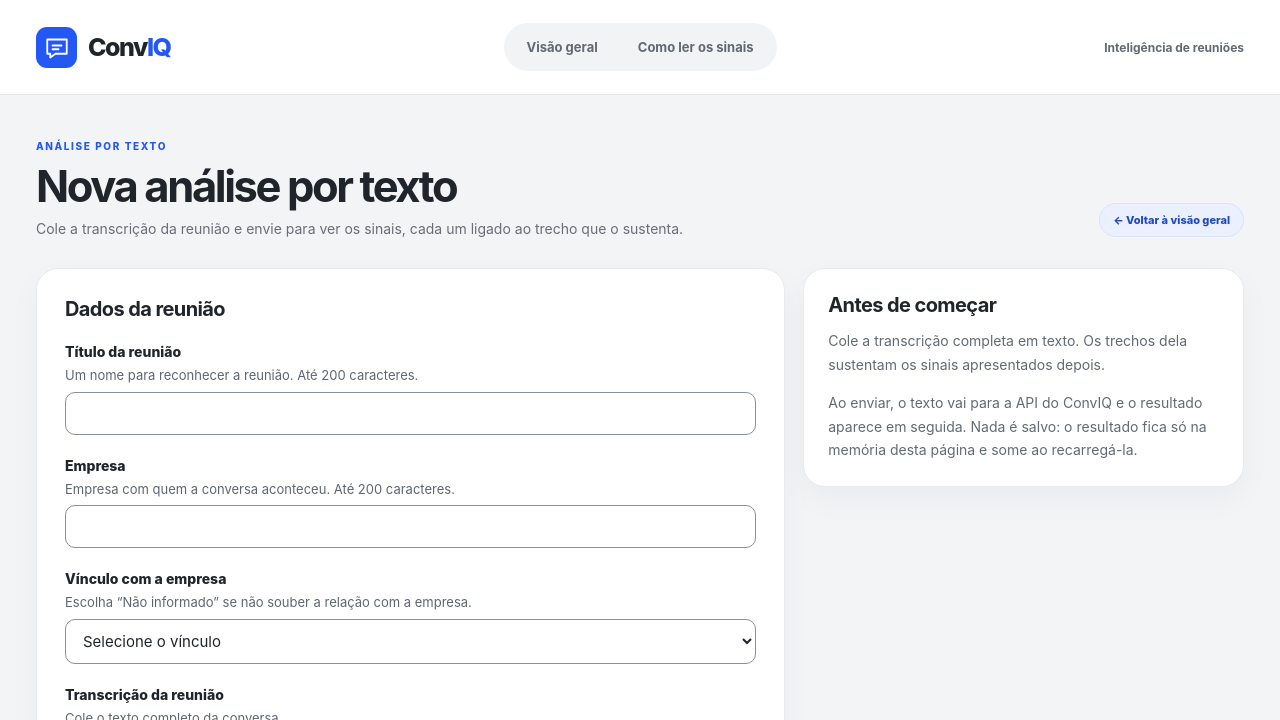
Test case: estados do envio › depois da falha os campos voltam a ser editáveis e sem aria-disabled
This screenshot has width=1280, height=720.
Type "  Renovação Acme  " into the field labelled "Título da reunião" at point(411, 413), box [65,392,756,435]
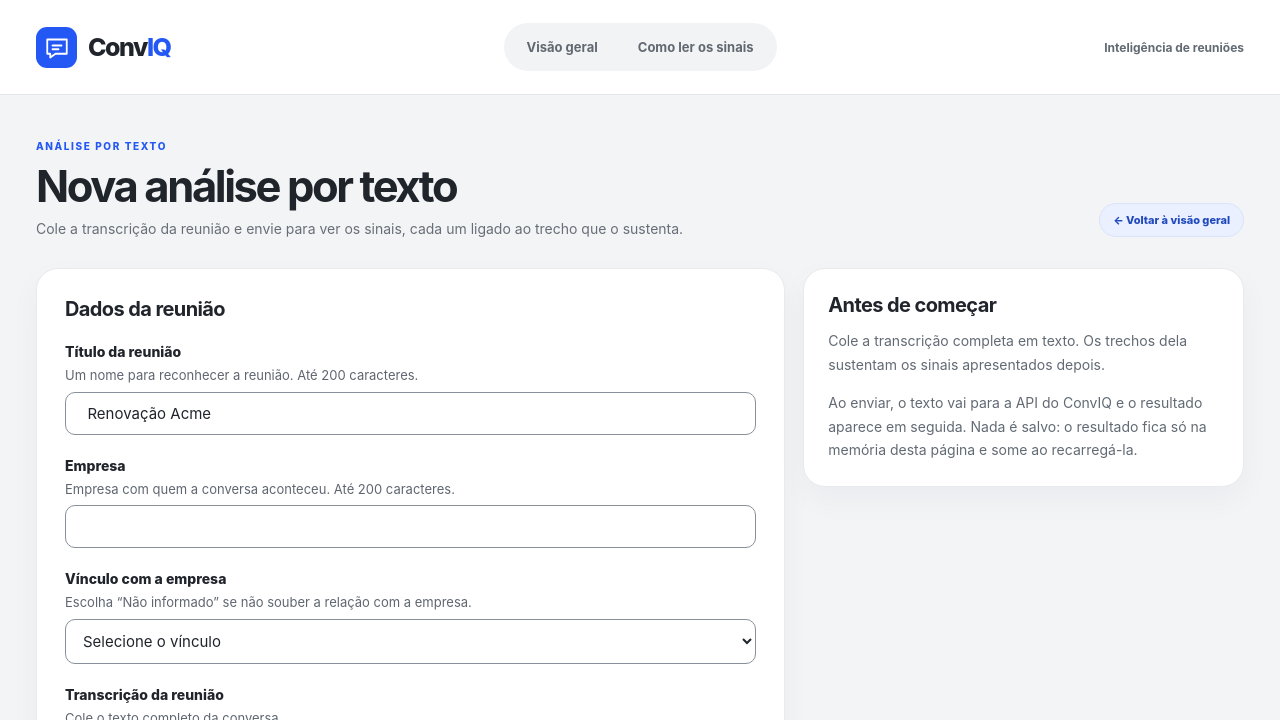
Type "Acme" into the field labelled "Empresa" at point(411, 527), box [65,505,756,548]
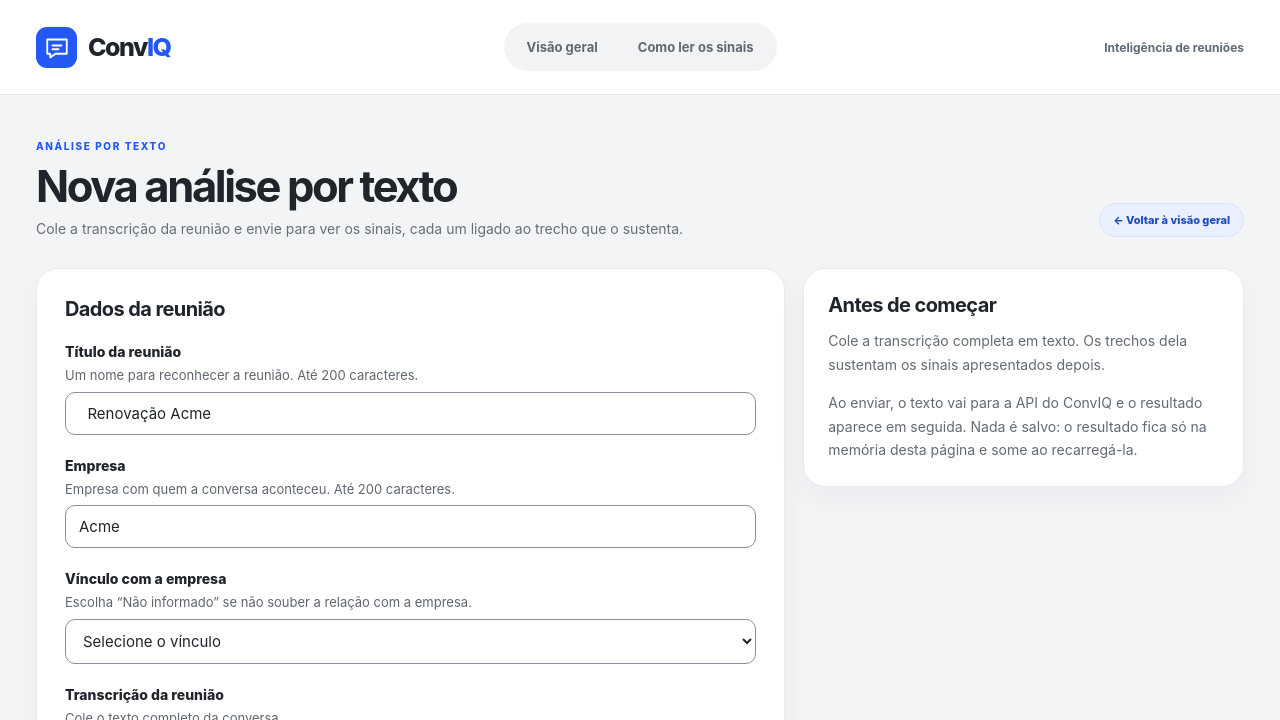
Select "Cliente" in the dropdown labelled "Vínculo com a empresa" at point(411, 641), box [65,619,756,664]
(page scrolled)
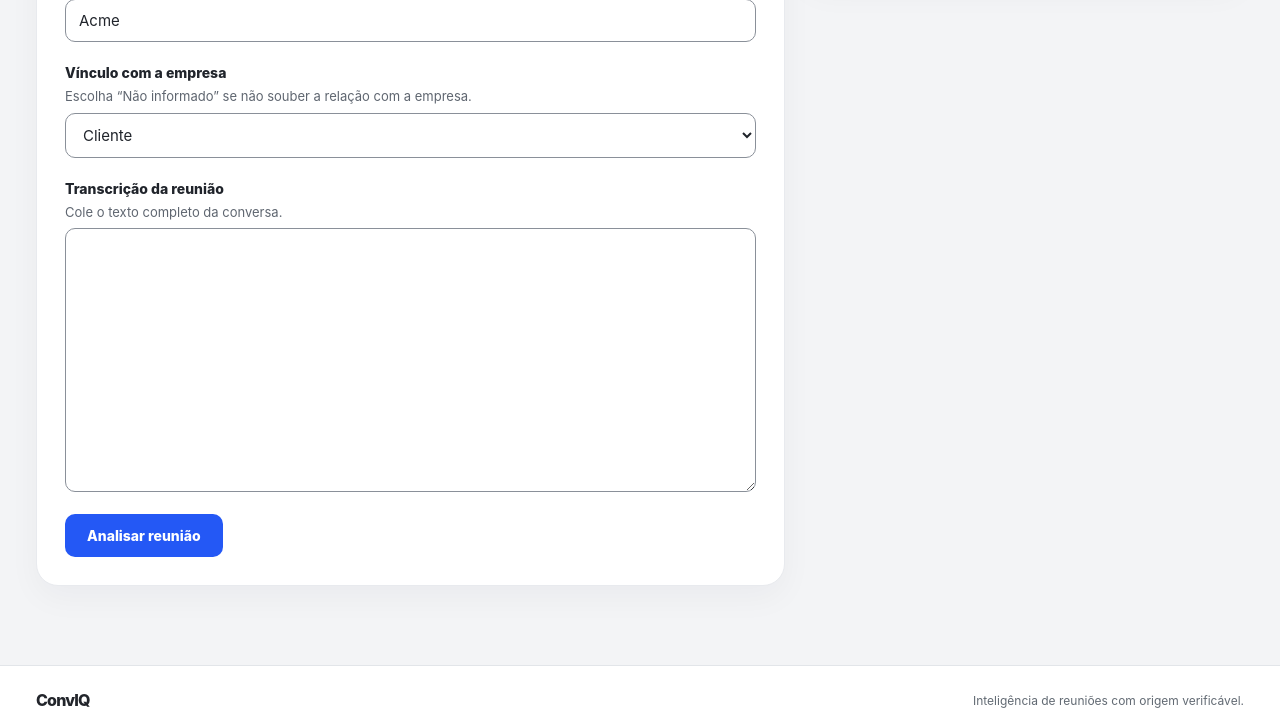
Type " Estamos insatisfeitos com o suporte. " into the text box labelled "Transcrição da reunião" at point(411, 360), box [65,228,756,492]
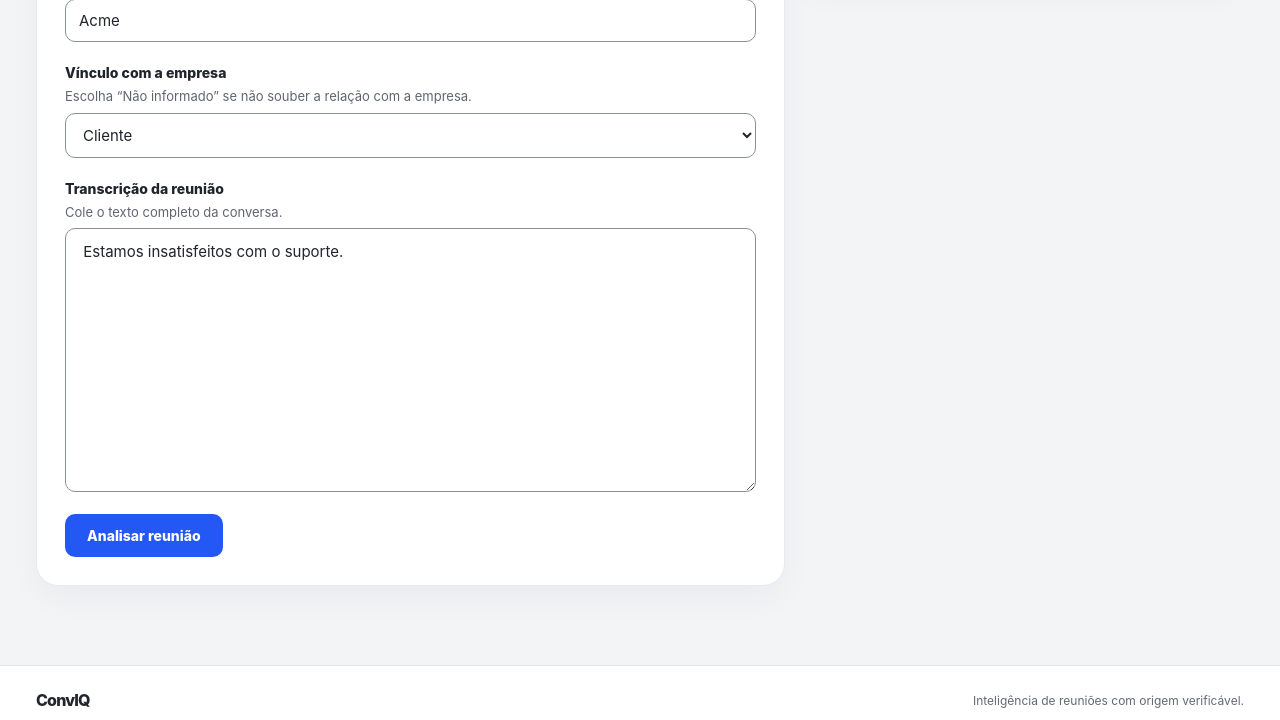
Click the button "Analisar reunião" at point(144, 536), box [65,514,223,557]
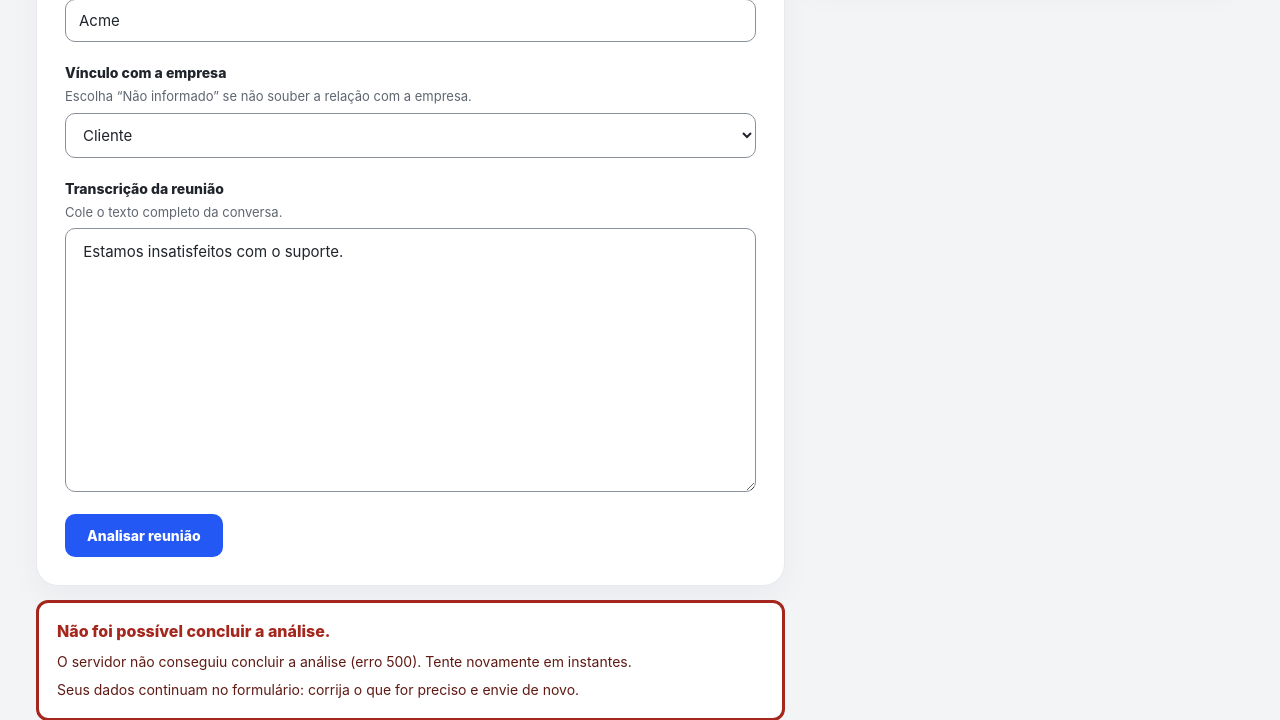
Result: the message is shown at [36,600,785,719]
